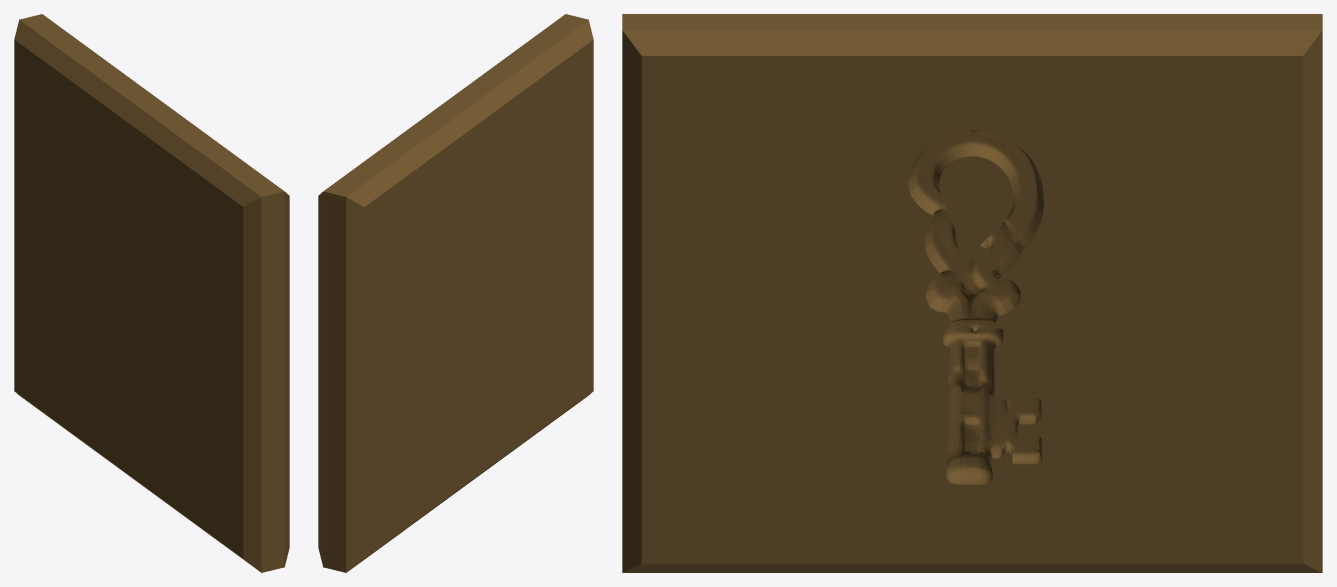
The model's file is KeyPlateKey3.fbx.
3 views of the same model, side by side, from view 1: azimuth 30°, elevation 25°; view 2: azimuth 150°, elevation 25°; view 3: azimuth 270°, elevation 25° (orthographic). The views are drawn at different scales.
Parts seen in each view (by area): view 1: polySurface4; view 2: polySurface4; view 3: polySurface4.
Boxes of the visible parts, left/top/right/bottom form: polySurface4: left=14, top=14, right=289, bottom=572; polySurface4: left=318, top=14, right=593, bottom=572; polySurface4: left=622, top=14, right=1322, bottom=572.
Size of the model in its own units: 0.5841 by 4.54 by 5.3.
